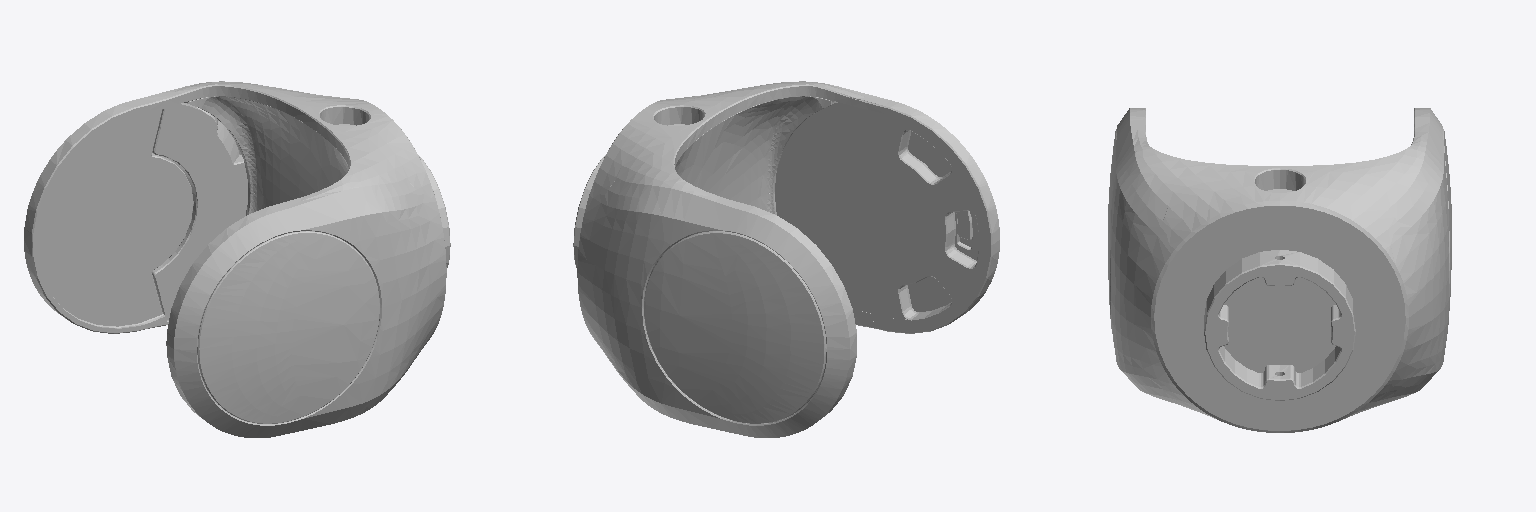
The picture shows the model from 3 angles: view 1: azimuth 30°, elevation 25°; view 2: azimuth 150°, elevation 25°; view 3: azimuth 270°, elevation 25°; orthographic projection.
Visible parts, largest first — view 1: left_wrist_yaw_link; view 2: left_wrist_yaw_link; view 3: left_wrist_yaw_link.
Boxes of the visible parts, box(x1,y1,x2,y2) form: left_wrist_yaw_link: box(24, 81, 450, 437); left_wrist_yaw_link: box(573, 81, 999, 437); left_wrist_yaw_link: box(1108, 108, 1451, 432).
Size of the model in its own units: 0.0908 by 0.0663 by 0.086.